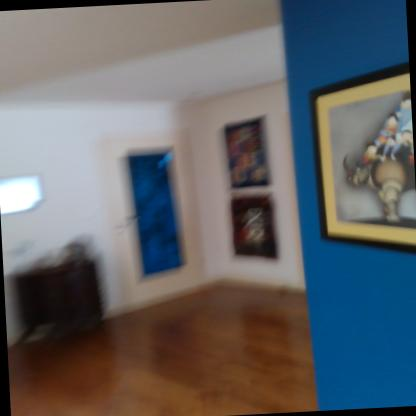closed: (103, 127, 200, 306)
